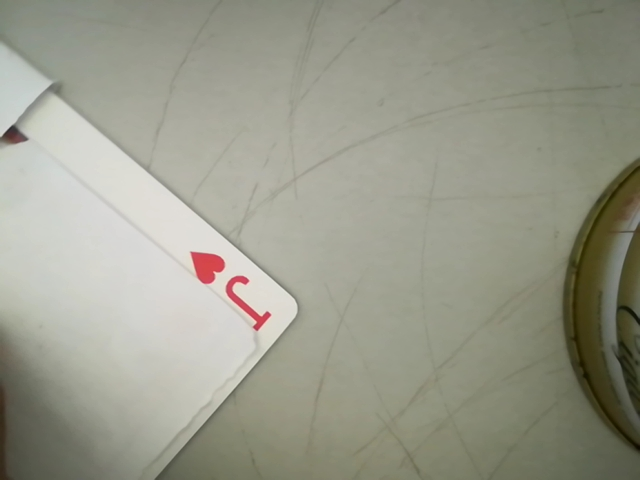hx j: (189, 242, 278, 339)
